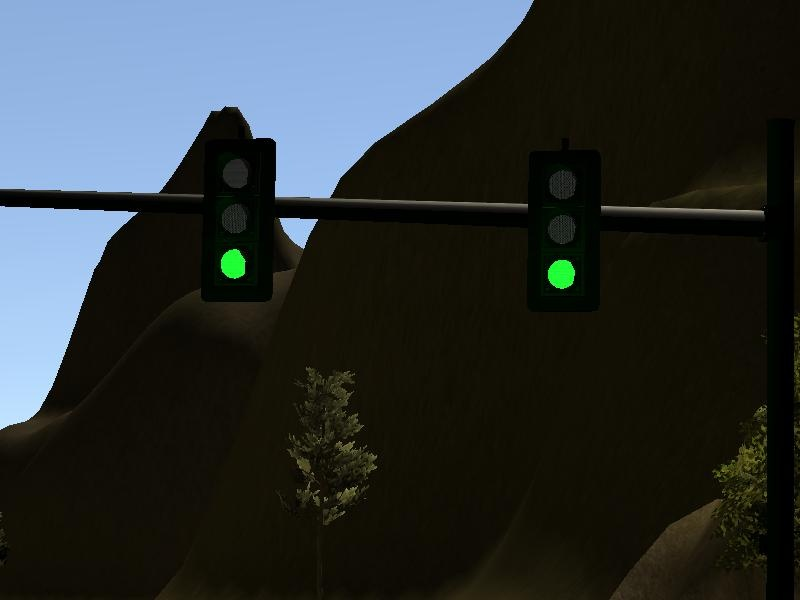GREEN: (203, 138, 277, 297), (528, 150, 602, 309)
